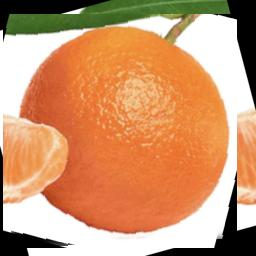Orange Fresh: (4, 14, 238, 248)
